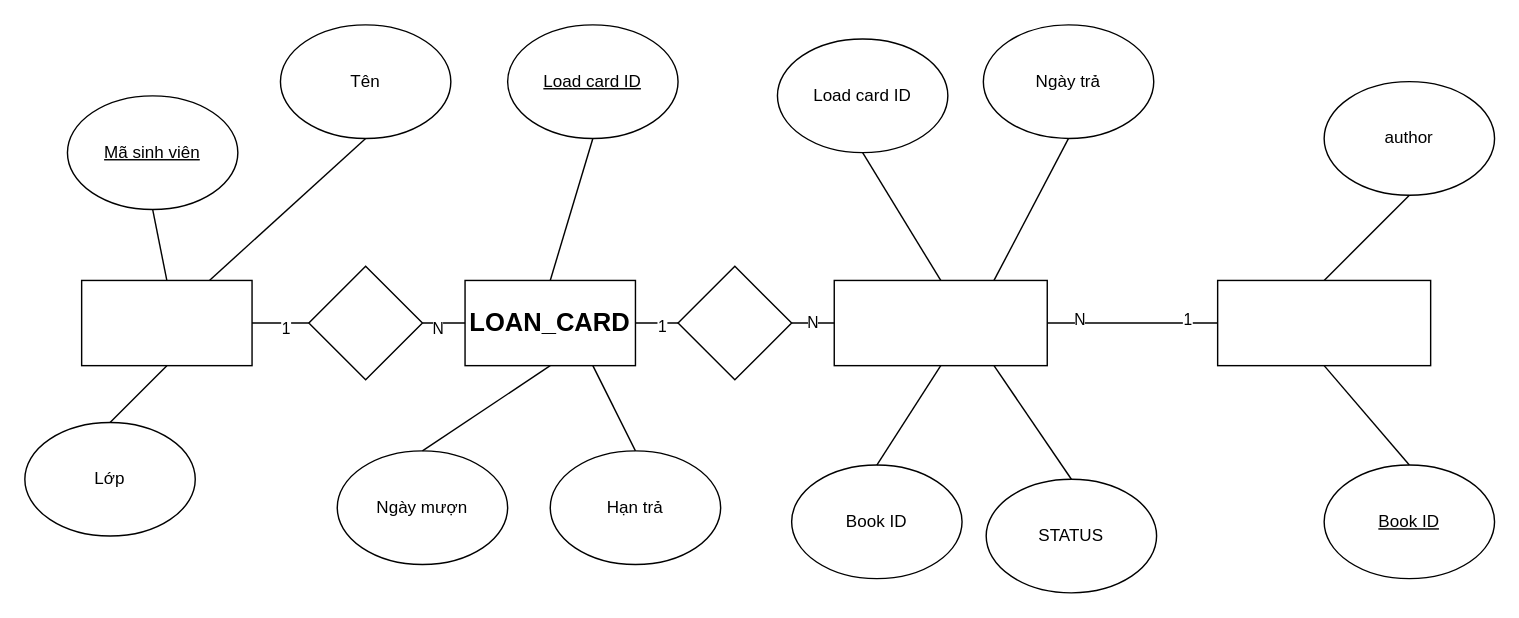
Image size: 1519x618. Some labels were removed from this diagram. Each missing label, with the centre of its shape:
"BOOKS" goes at pixel 1323 322.
"Chứa" goes at pixel 734 322.
"Có" goes at pixel 364 322.
"LOAN_DETAILS" goes at pixel 940 322.
"STUDENTS" goes at pixel 166 322.
